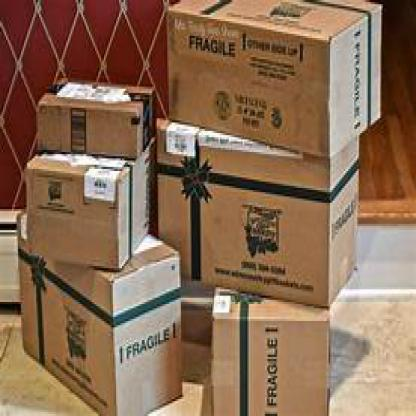package: (152, 117, 358, 314), (15, 188, 187, 416), (166, 0, 383, 160), (26, 124, 155, 271), (212, 286, 331, 416), (33, 79, 157, 163)
